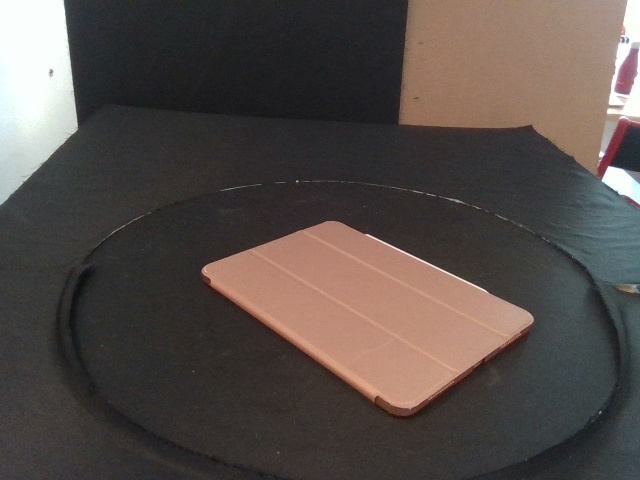laptop: (200, 220, 535, 417)
